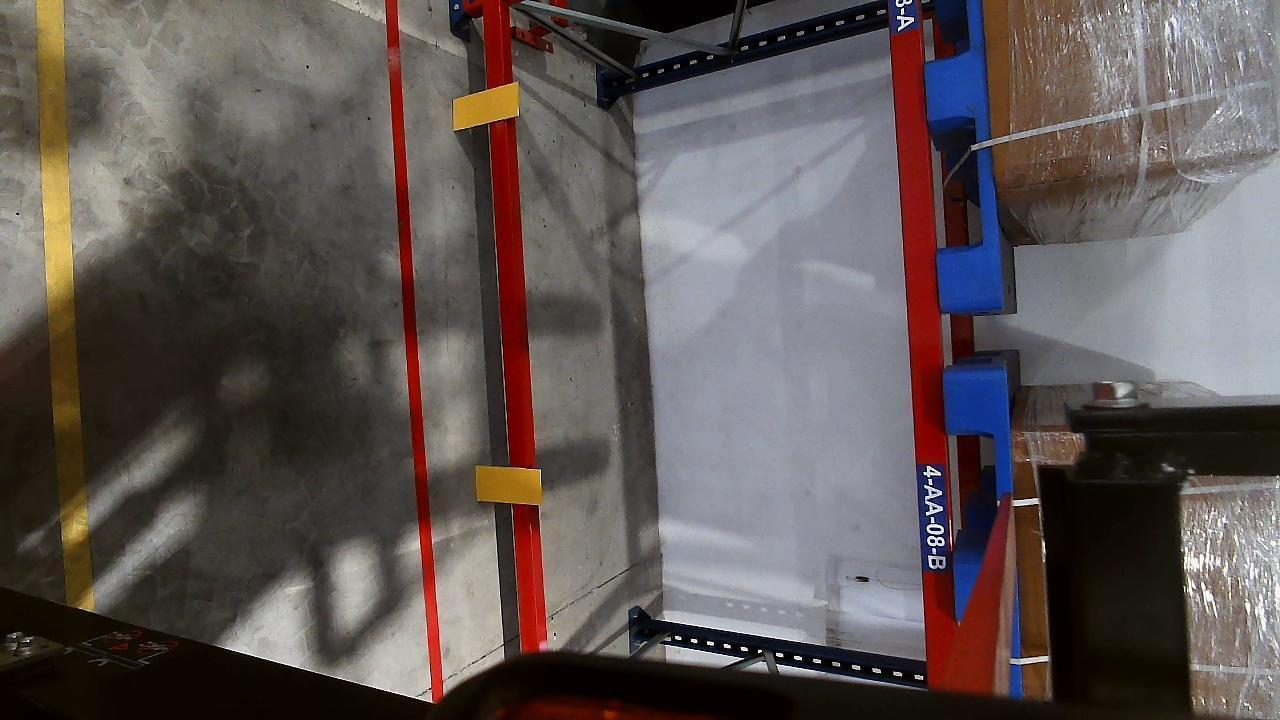red_line: (374, 0, 443, 694)
yellow_line: (21, 4, 102, 607)
